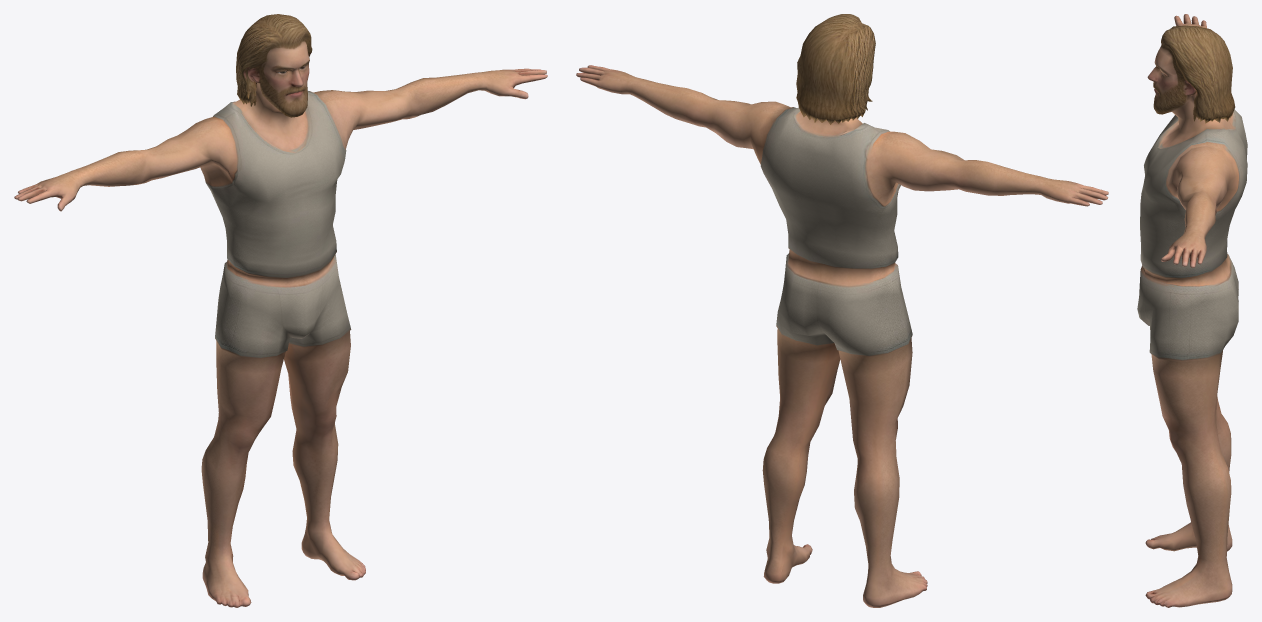
Rendered from man_without_cloths.glb.
3 views of the same model, side by side, from view 1: azimuth 30°, elevation 25°; view 2: azimuth 150°, elevation 25°; view 3: azimuth 270°, elevation 25° (orthographic). The views are drawn at different scales.
Visible parts, largest first — view 1: tripo_node_bc81f8f9-a104-44a7-afac-f094b41faff7; view 2: tripo_node_bc81f8f9-a104-44a7-afac-f094b41faff7; view 3: tripo_node_bc81f8f9-a104-44a7-afac-f094b41faff7.
Boxes of the visible parts, x1=… form: tripo_node_bc81f8f9-a104-44a7-afac-f094b41faff7: x1=14, y1=14, x2=547, y2=607; tripo_node_bc81f8f9-a104-44a7-afac-f094b41faff7: x1=576, y1=14, x2=1108, y2=607; tripo_node_bc81f8f9-a104-44a7-afac-f094b41faff7: x1=1137, y1=14, x2=1247, y2=607.
Bounding box in the file's own units: 1.73 × 1.75 × 0.3204.
Materials: 1 (1 with a texture image).
